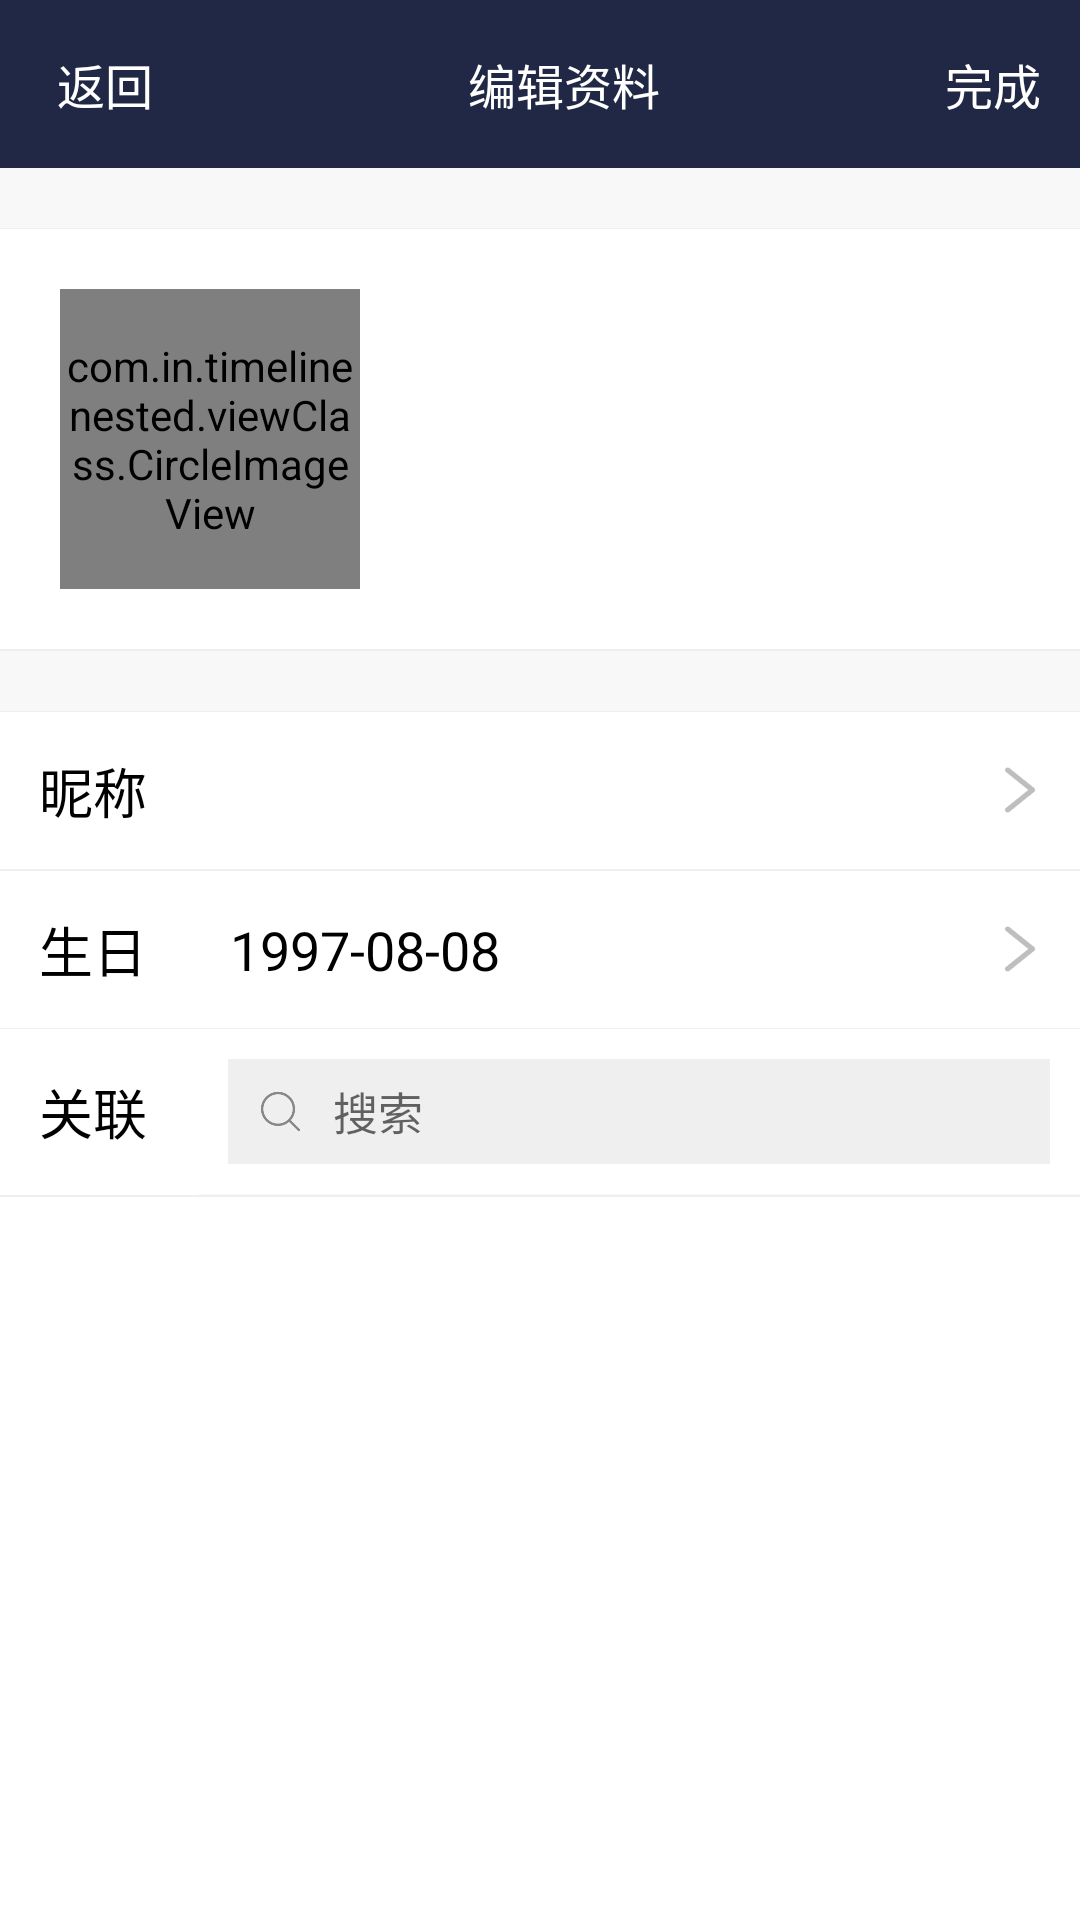

Icon bounding boxes for this 1080*1920 phone screenshot, format [x1,y1,x2,y2]:
right: [1005,768,1035,812], [1005,927,1035,972]
search: [261,1092,300,1131]
